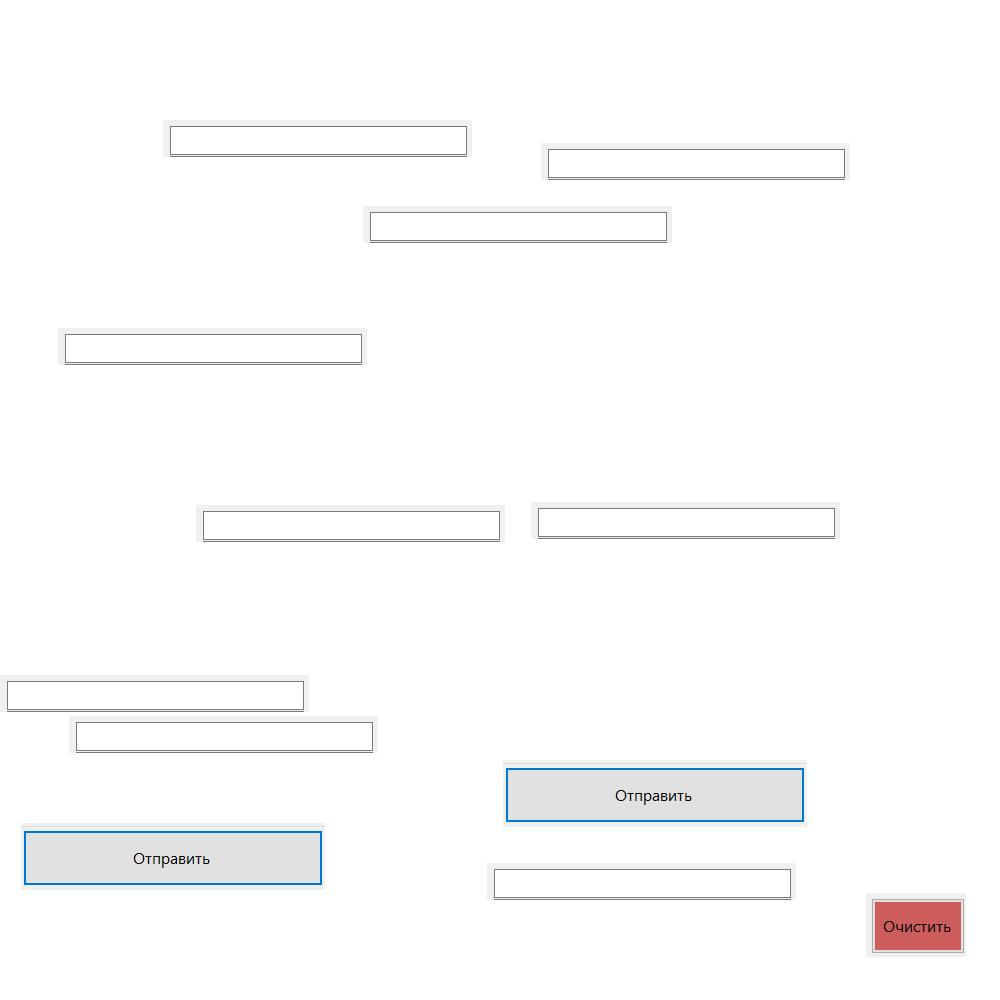Button: (503, 760, 807, 827), (21, 823, 325, 890), (866, 893, 966, 957)
EditText-: (196, 505, 505, 542), (487, 863, 796, 900), (0, 675, 309, 712), (363, 206, 672, 243), (163, 120, 472, 157), (541, 143, 850, 180), (531, 502, 840, 539), (69, 716, 378, 753), (58, 328, 367, 365)
